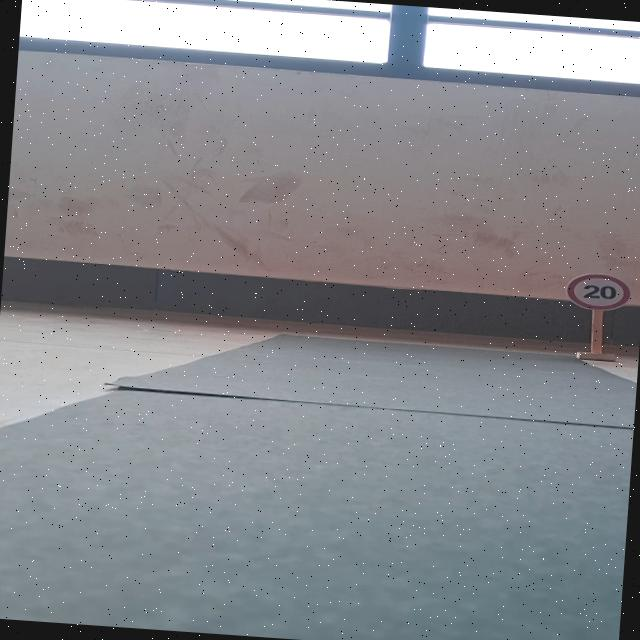Speed20: (560, 268, 638, 314)
